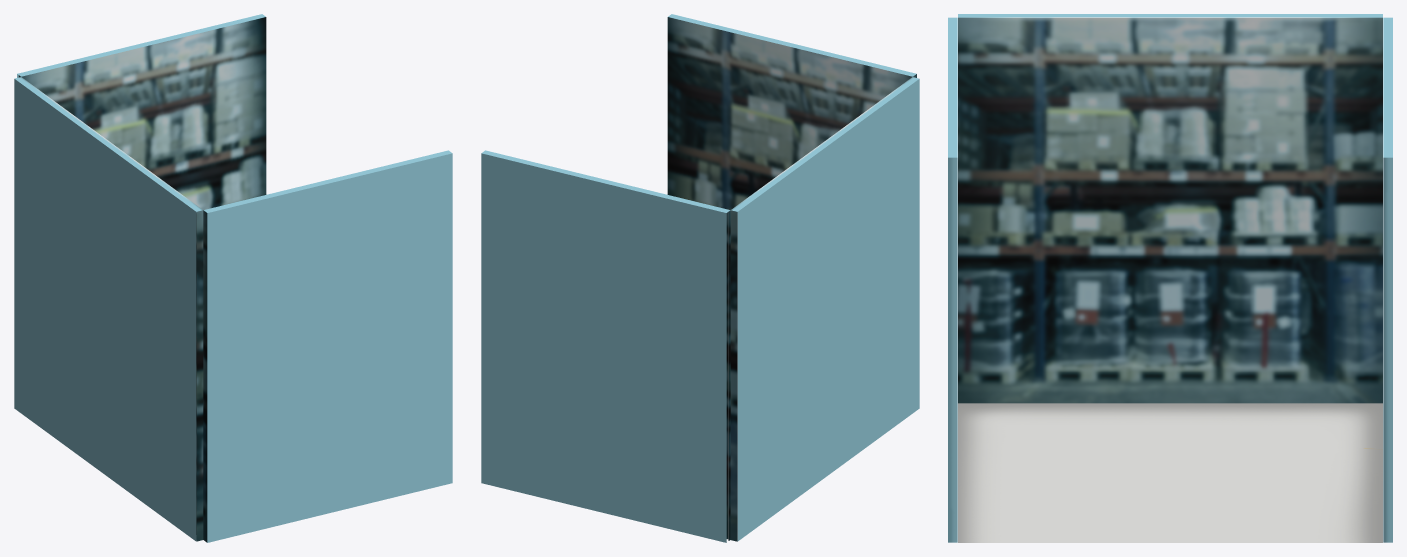
Rendered from Warehouse new.fbx.
3 renders of one model, left to right at view 1: azimuth 30°, elevation 25°; view 2: azimuth 150°, elevation 25°; view 3: azimuth 270°, elevation 25°, orthographic. The views are drawn at different scales.
Parts seen in each view (by area): view 1: pPlane2; view 2: pPlane2; view 3: pPlane2.
Part boxes in pixels (x1,y1,x2,y2): pPlane2: (14,14,452,542); pPlane2: (481,14,919,542); pPlane2: (948,14,1392,542).
Bounding box in the file's own units: 35.99 × 45.02 × 47.07.
